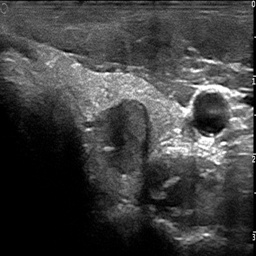mass: (98, 100, 150, 172)
